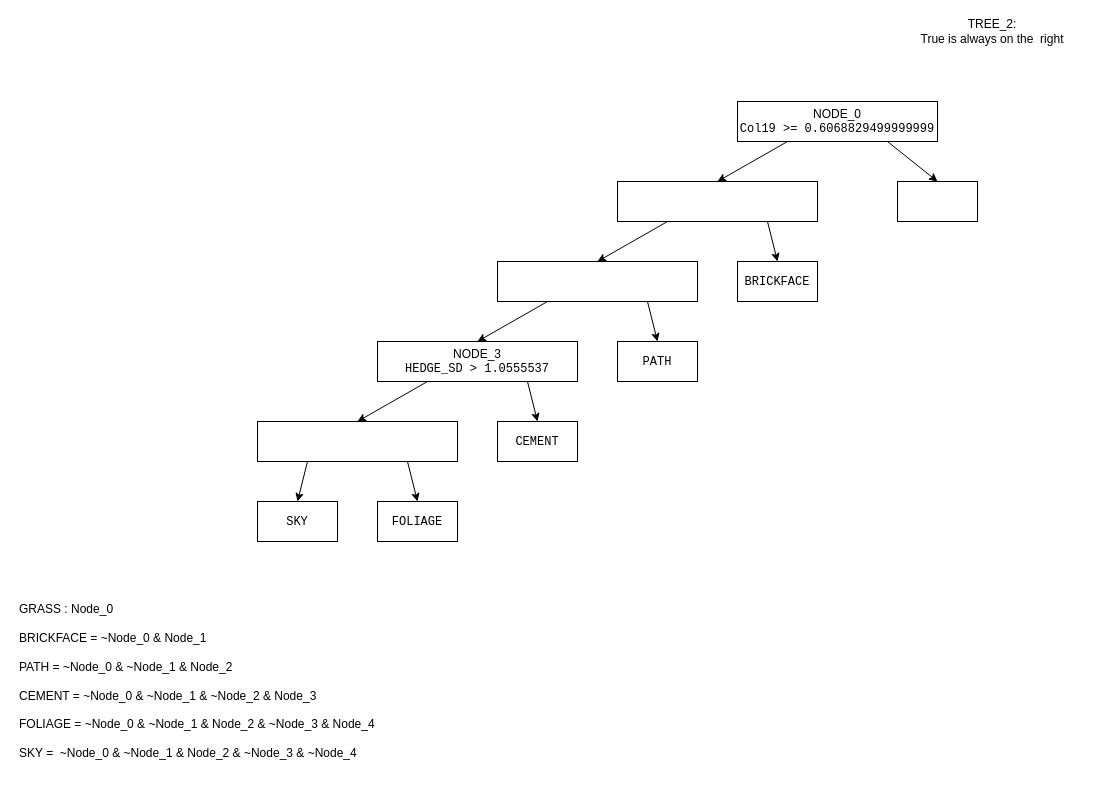
Image size: 1114x799. Some labels were removed from this diagram. Here are the shapes that lost their labels. From the top down, the box of each, then its label:
(616, 180, 818, 222): NODE_1 Col19 > -1.8397554999999999
(896, 180, 978, 222): GRASS
(496, 260, 698, 302): NODE_2 REGION_PIXEL_COUNT > 162.0
(256, 420, 458, 462): NODE_4 HUE_MEAN > 0.642935635
